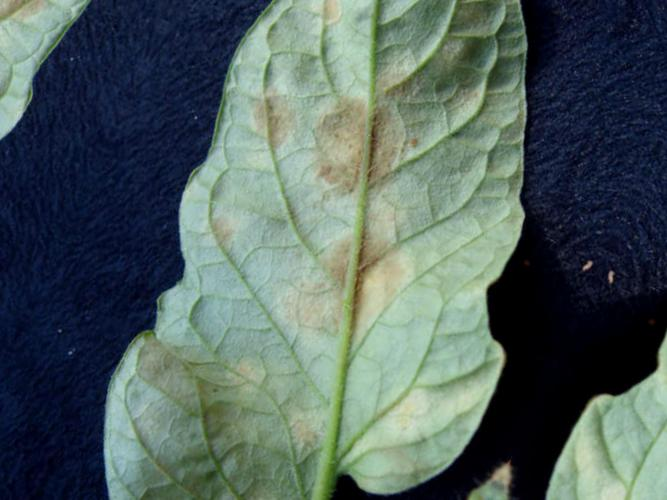Tomato mold leaf: (26, 0, 667, 500)
